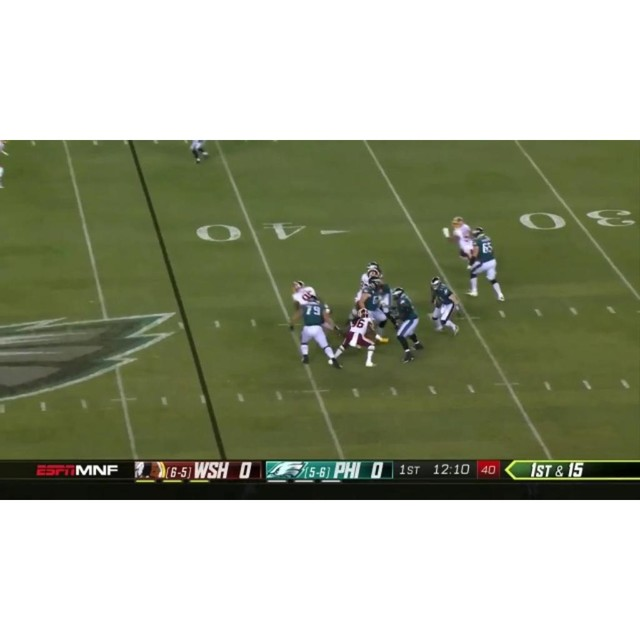american-football-player: (293, 290, 341, 369), (466, 227, 506, 301), (389, 287, 424, 363), (335, 307, 378, 367), (429, 277, 462, 337), (443, 216, 478, 270), (189, 140, 208, 165)
